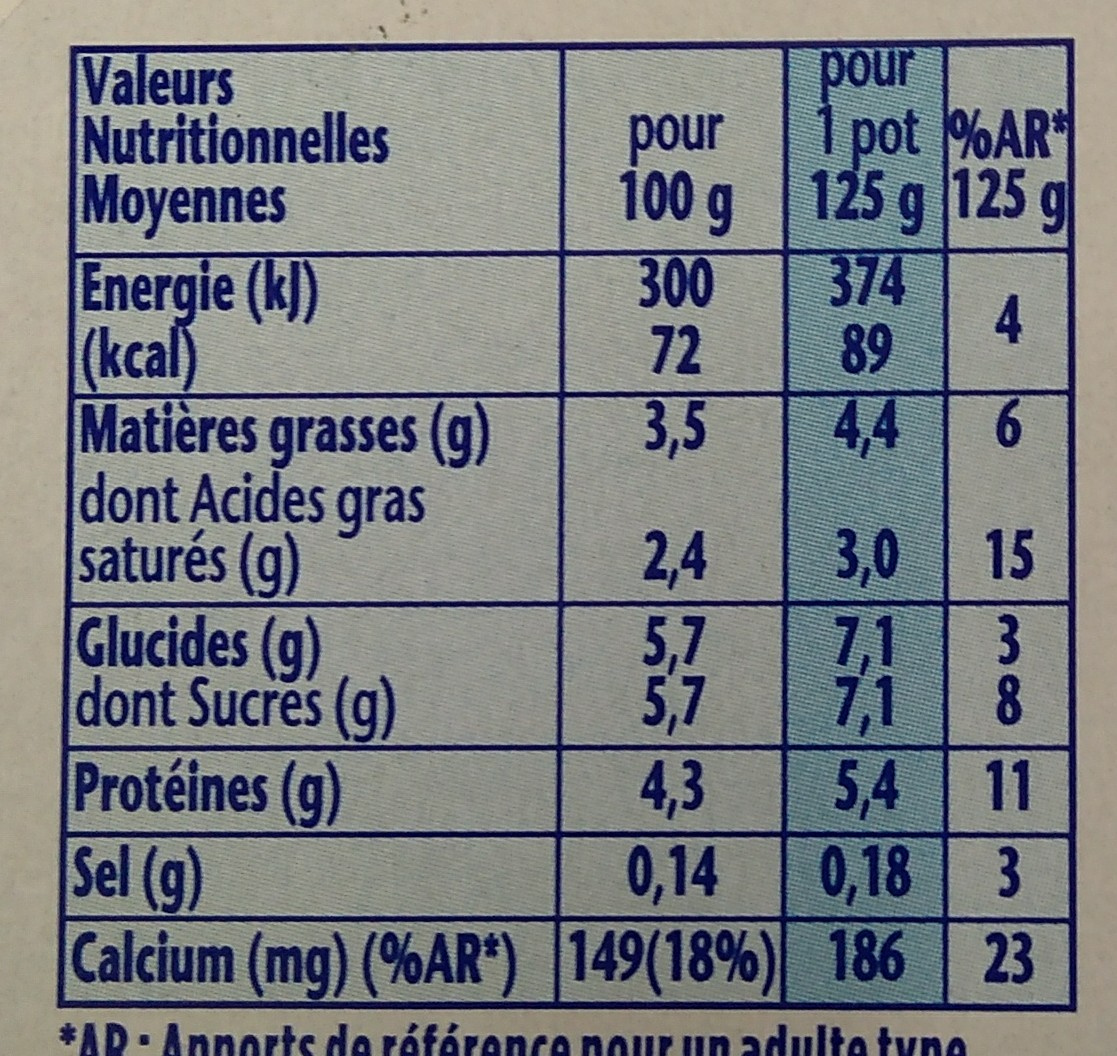column: (74, 54, 517, 1000), (573, 111, 774, 1003), (814, 53, 927, 981), (953, 106, 1064, 984)
table: (65, 37, 1076, 1011)
